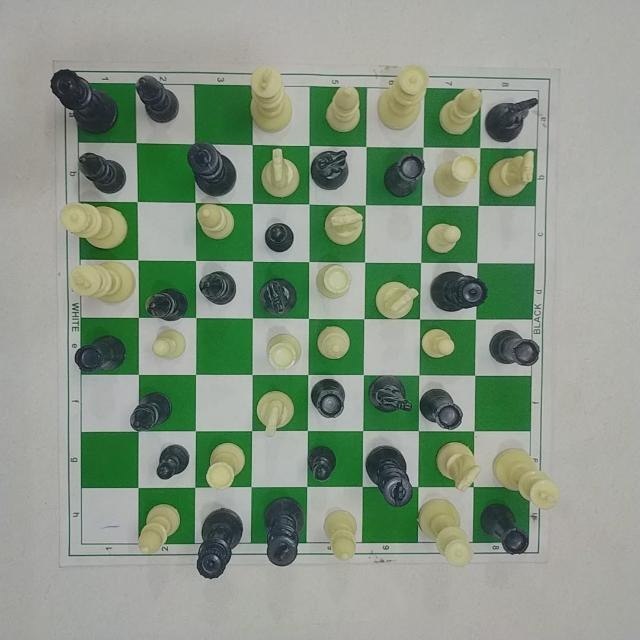black-bishop: (129, 65, 190, 131), (70, 142, 131, 200), (144, 282, 199, 330), (196, 260, 244, 309), (127, 389, 175, 437)
black-king: (181, 132, 256, 200), (253, 488, 308, 572), (363, 434, 419, 512)
black-knight: (480, 83, 549, 147), (304, 135, 356, 197), (363, 367, 417, 419), (256, 265, 303, 322)
black-pawn: (256, 212, 312, 269), (149, 436, 195, 485), (304, 440, 348, 488)
black-queen: (35, 54, 131, 140), (188, 502, 249, 589), (425, 260, 495, 317)
black-rook: (474, 498, 532, 562), (68, 324, 128, 384), (485, 321, 545, 378), (418, 382, 472, 434), (381, 145, 425, 201), (307, 372, 350, 429)
white-bishop: (124, 496, 181, 562), (315, 500, 365, 563), (321, 72, 367, 139), (437, 82, 485, 143), (193, 196, 243, 245), (308, 320, 356, 368)
white-king: (489, 440, 569, 521), (238, 58, 299, 138), (63, 256, 149, 304)
white-knight: (480, 148, 546, 204), (428, 432, 486, 493), (257, 144, 309, 206), (255, 381, 303, 442), (317, 198, 367, 254), (370, 277, 426, 322)
white-pawn: (147, 322, 195, 365), (423, 214, 467, 260), (417, 321, 461, 363)
white-queen: (413, 489, 479, 576), (371, 60, 432, 142), (53, 196, 135, 251)
white-rook: (428, 147, 484, 205), (198, 434, 247, 496), (251, 325, 307, 373), (312, 251, 364, 300)
